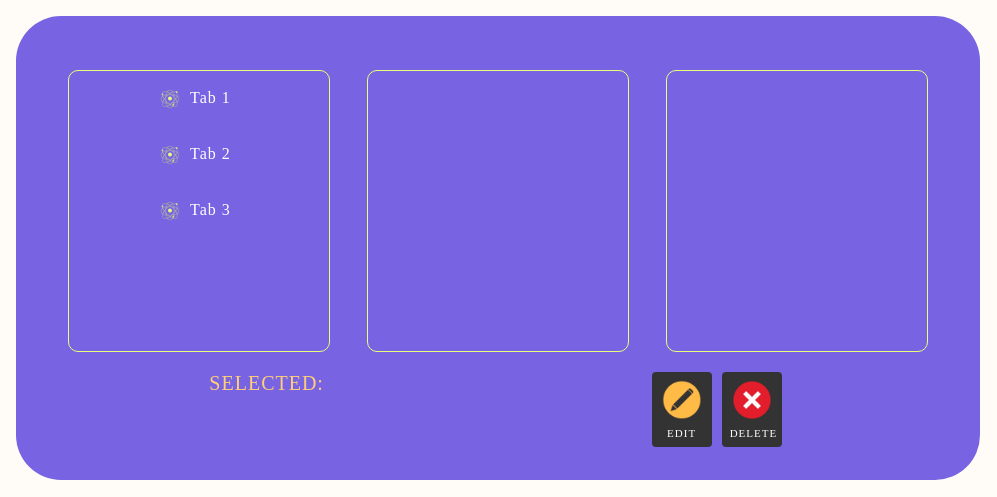
Test case: MakeEdits Component › filters lists based on selected tab
The image size is (997, 497).
# Select the first tab
Step 1. Click the text "Tab 1" → (210, 98), box left=190, top=88, right=231, bottom=108
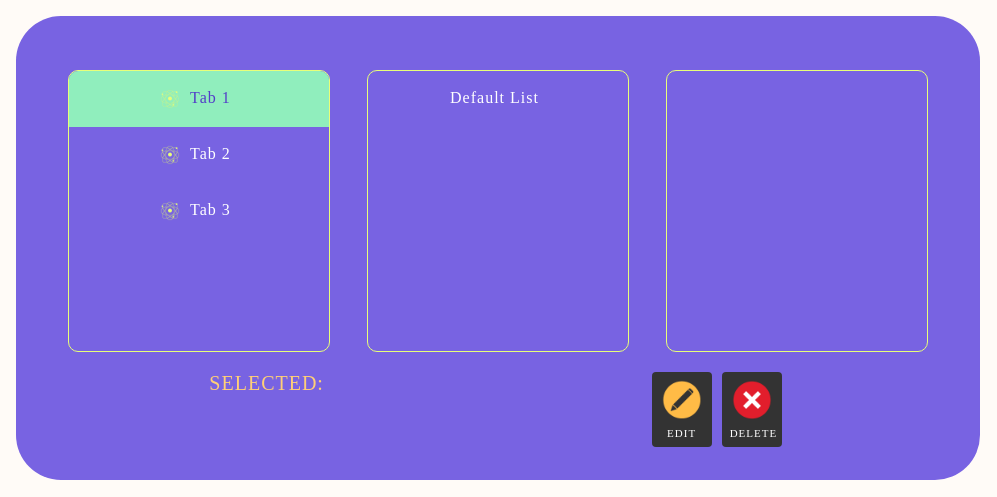
Now the text "Default List" is shown, box left=450, top=88, right=539, bottom=106
